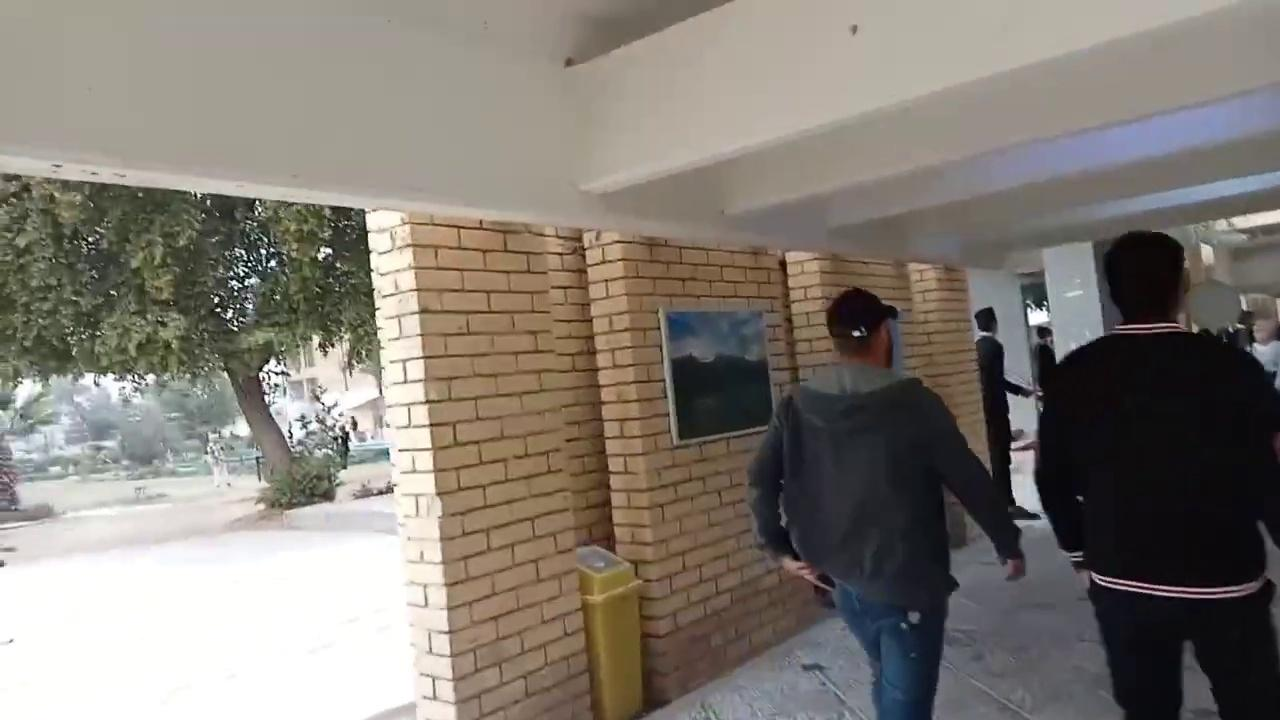fountain: (293, 426, 391, 465)
person: (745, 286, 1026, 719), (1035, 229, 1279, 719), (973, 305, 1040, 521)
tree: (1, 171, 381, 507)
